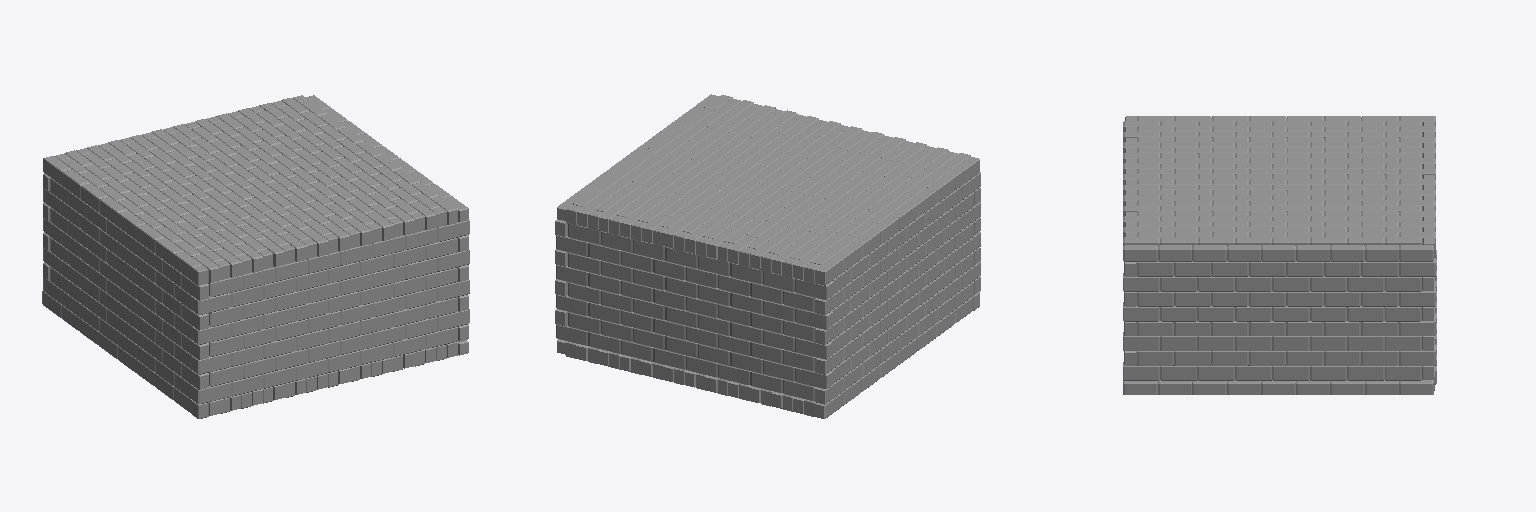
Rendered from obj_wall.obj.
3 renders of one model, left to right at view 1: azimuth 30°, elevation 25°; view 2: azimuth 150°, elevation 25°; view 3: azimuth 270°, elevation 25°, orthographic.
Parts seen in each view (by area): view 1: Wall_Cube.004; view 2: Wall_Cube.004; view 3: Wall_Cube.004.
Part boxes in pixels (x1,y1,x2,y2): Wall_Cube.004: (42,95,469,418); Wall_Cube.004: (555,94,980,418); Wall_Cube.004: (1123,116,1436,394).
Size of the model in its own units: 1.48 by 0.7708 by 1.48.